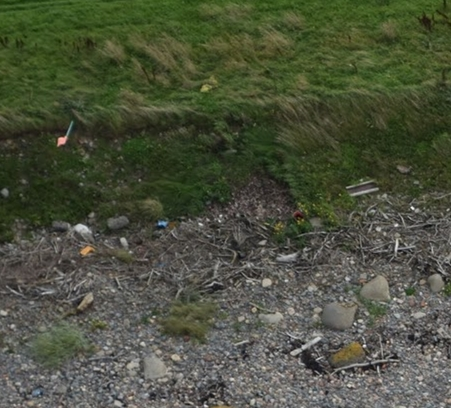white_in_green: (332, 159, 395, 210), (32, 111, 93, 159), (142, 203, 184, 239), (65, 233, 107, 269), (278, 198, 317, 233)
